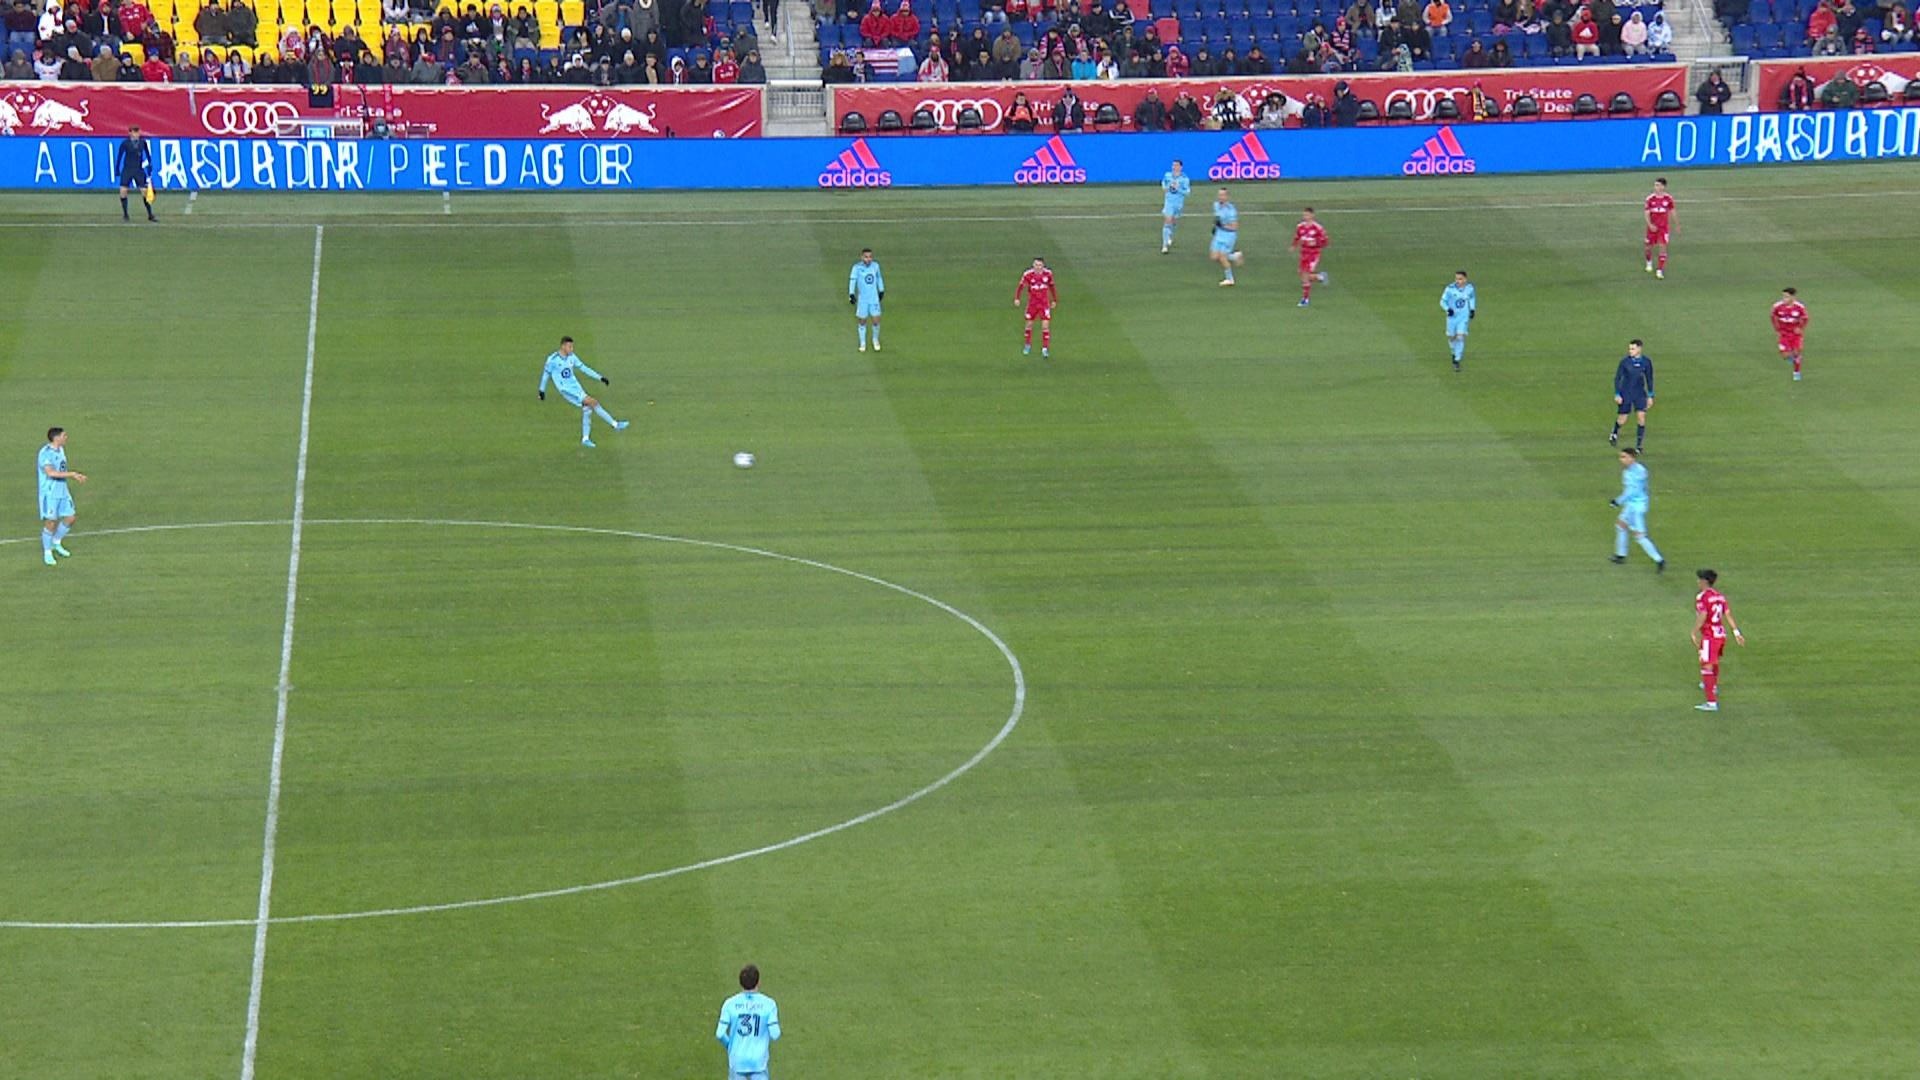football: (732, 450, 757, 471)
